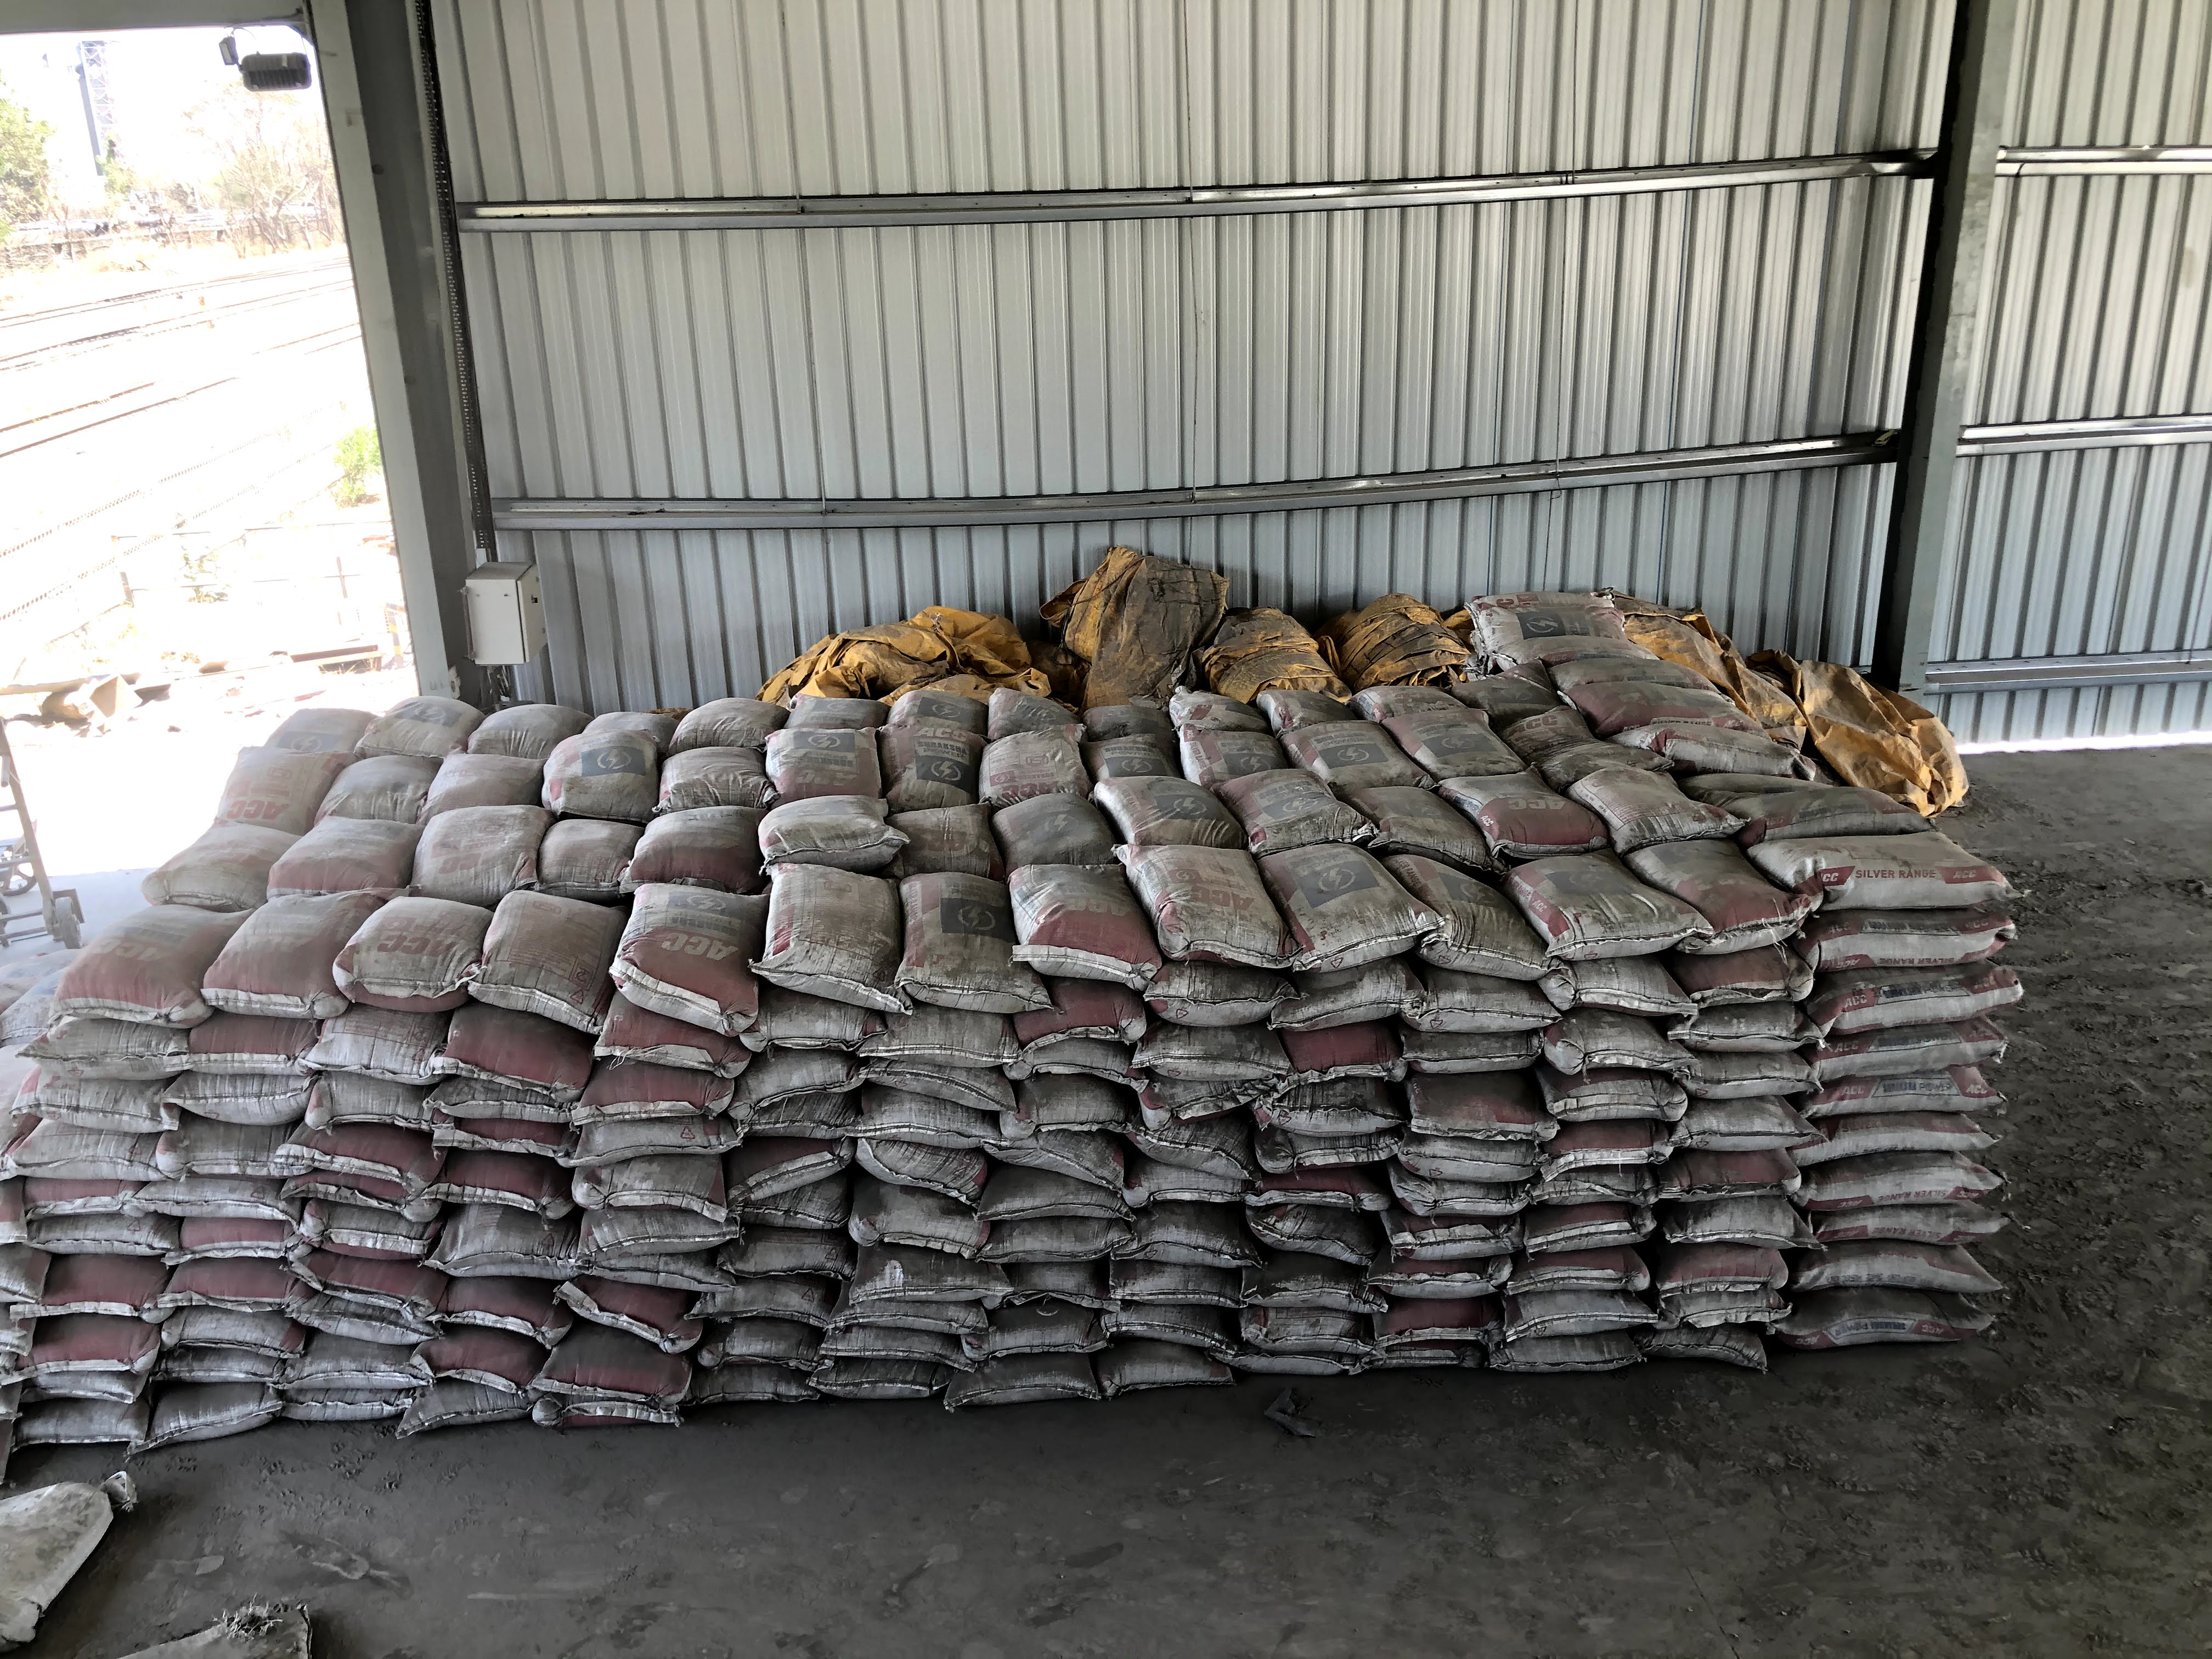cement bag: (904, 873, 1033, 1023), (777, 870, 907, 1004), (1130, 843, 1271, 957), (624, 889, 756, 1009), (1787, 831, 2005, 903), (500, 887, 615, 1021), (94, 889, 230, 1000), (1808, 917, 2029, 985), (1019, 870, 1167, 971), (1817, 993, 2048, 1054), (1263, 850, 1416, 941), (239, 897, 364, 1006), (1402, 859, 1526, 967), (1810, 1039, 2024, 1100), (1512, 857, 1660, 945), (1796, 1298, 2005, 1359), (1641, 847, 1789, 929), (369, 894, 491, 990), (556, 1316, 691, 1401), (1407, 1065, 1559, 1136), (1813, 1166, 2000, 1223), (24, 1121, 178, 1190), (1810, 1237, 2001, 1293), (1670, 1134, 1820, 1202), (425, 805, 536, 896), (456, 1011, 587, 1087), (1825, 1117, 1994, 1175), (178, 1249, 319, 1317), (1585, 775, 1717, 847), (444, 1199, 568, 1274), (40, 1026, 179, 1093), (1555, 960, 1681, 1033), (658, 819, 770, 901), (1259, 1208, 1386, 1279), (1240, 777, 1359, 852), (1268, 1080, 1409, 1143), (550, 734, 658, 816), (152, 1368, 284, 1434), (1743, 791, 1937, 836), (308, 1119, 427, 1192), (1392, 709, 1510, 781), (1287, 716, 1414, 782), (1491, 605, 1635, 662), (1144, 1121, 1263, 1188), (1120, 775, 1224, 852), (965, 1359, 1127, 1408), (42, 1255, 188, 1309), (186, 1051, 315, 1112), (604, 1152, 723, 1218), (1669, 1246, 1789, 1310), (772, 810, 885, 878), (550, 824, 636, 913), (432, 1317, 542, 1385), (873, 1122, 972, 1197), (322, 1014, 435, 1079), (881, 1021, 1021, 1073), (307, 823, 413, 890), (1550, 1073, 1691, 1124), (1116, 1347, 1247, 1401), (188, 1115, 296, 1180), (1003, 1169, 1101, 1239), (982, 725, 1096, 784), (601, 1056, 721, 1112), (881, 1061, 1014, 1112), (1165, 971, 1277, 1030), (1426, 1143, 1548, 1197), (582, 1209, 716, 1258), (207, 826, 296, 899), (1014, 791, 1111, 857), (1137, 1211, 1240, 1274), (1477, 791, 1595, 845), (902, 805, 995, 873), (674, 746, 775, 807), (876, 1199, 986, 1255), (434, 744, 547, 798), (1251, 1319, 1374, 1368), (1026, 978, 1129, 1035), (1533, 1215, 1658, 1262), (244, 744, 320, 819), (1378, 791, 1472, 852), (784, 730, 888, 784), (340, 746, 420, 816), (725, 1279, 834, 1330), (831, 1368, 948, 1415), (747, 1227, 855, 1276), (1191, 720, 1285, 775), (185, 1019, 294, 1066), (738, 1155, 852, 1199), (676, 688, 773, 739), (383, 694, 479, 744), (1522, 1297, 1642, 1337), (745, 1049, 843, 1096), (1033, 1082, 1130, 1129), (45, 1317, 153, 1359), (702, 1368, 798, 1415), (902, 730, 974, 791), (1695, 960, 1794, 1004), (489, 695, 559, 746)
